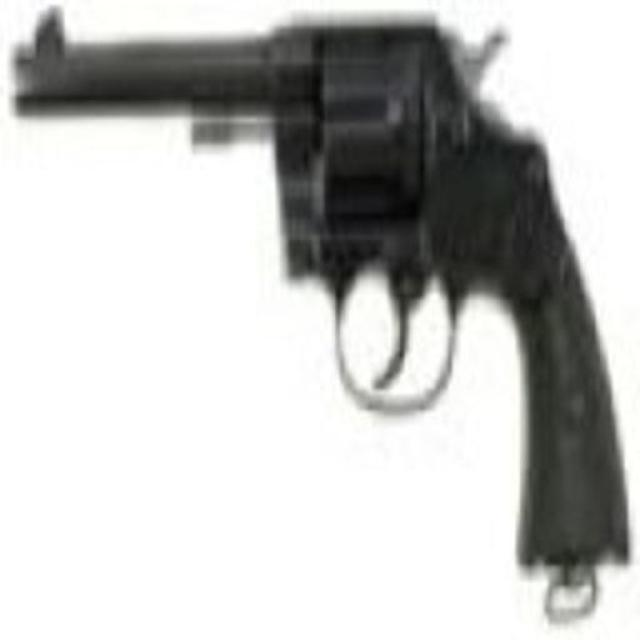pistol: (15, 5, 631, 560)
